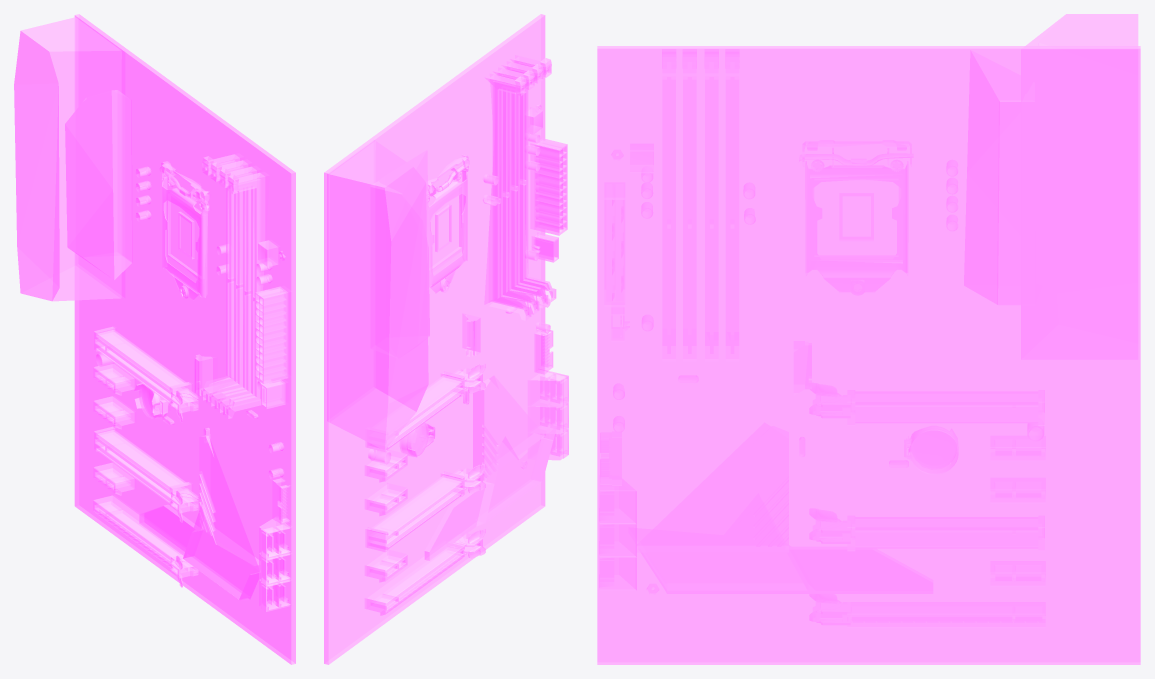
Rendered from ghost_motherboard_final.glb.
3 renders of one model, left to right at view 1: azimuth 30°, elevation 25°; view 2: azimuth 150°, elevation 25°; view 3: azimuth 270°, elevation 25°, orthographic. The views are drawn at different scales.
Visible parts, largest first — view 1: GHOST_MOTHERBOARD; view 2: GHOST_MOTHERBOARD; view 3: GHOST_MOTHERBOARD.
Part boxes in pixels (x1=…): GHOST_MOTHERBOARD: x1=14, y1=14, x2=295, y2=664; GHOST_MOTHERBOARD: x1=324, y1=14, x2=568, y2=664; GHOST_MOTHERBOARD: x1=597, y1=14, x2=1140, y2=664.
Bounding box in the file's own units: 0.0435 × 0.3076 × 0.246.
